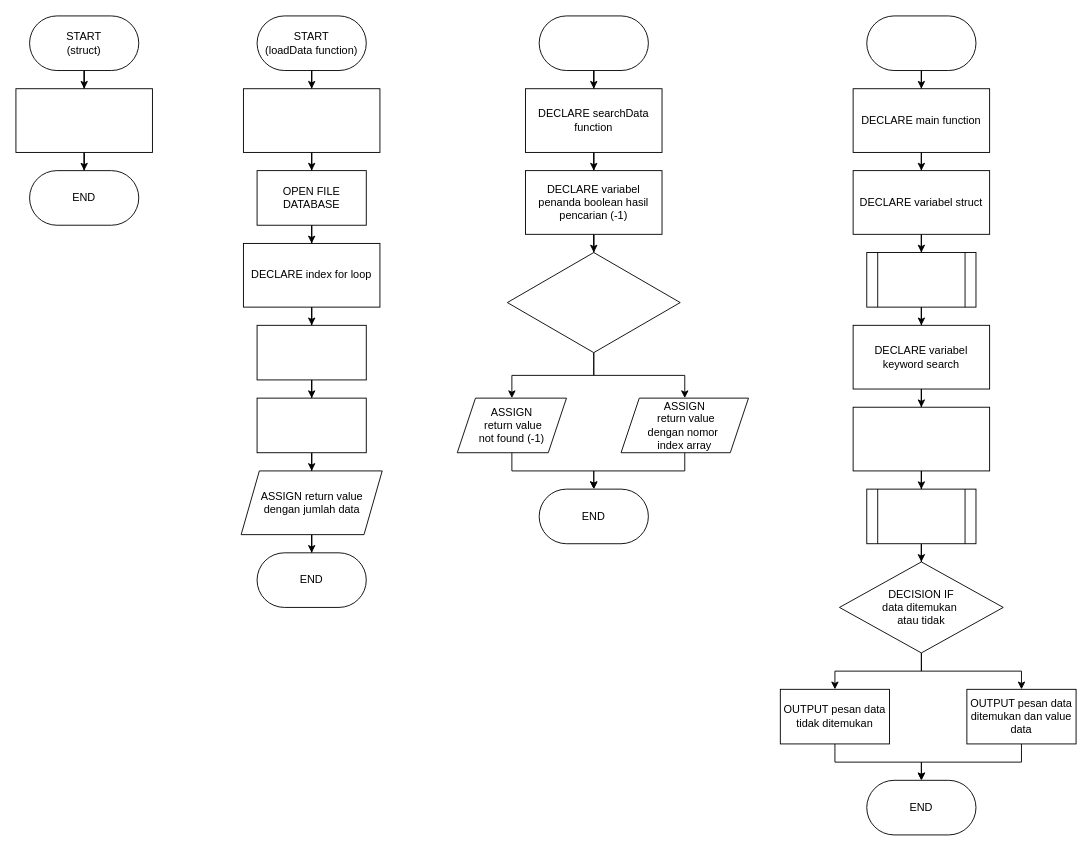
Image size: 1092x851. Some labels were removed from this diagram. Here are the shapes that lost their labels. From the top down, the centre of each, then its label:
At pixel 593 43: "START (searchData function)".
At pixel 921 43: "START (main function)".
At pixel 83 120: "DECLARE struct student".
At pixel 311 120: "DECLARE loadData function".
At pixel 921 279: "CALL FUNCTION loadData".
At pixel 593 302: "COMPARE keyword dan data array of struct pada main".
At pixel 311 352: "PARSING database, tulis dalam array of struct pada main".
At pixel 311 425: "CLOSE file database".
At pixel 921 438: "INPUT value kata kunci pencarian".
At pixel 921 516: "CALL FUNCTION searchData".
